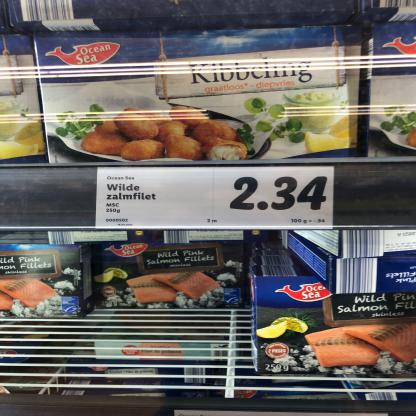prtg: (96, 167, 335, 231)
